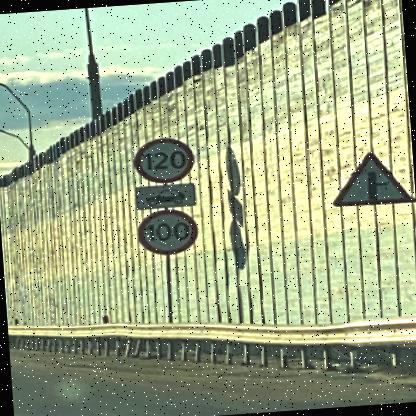speedlimit: (130, 134, 194, 186), (134, 206, 198, 256)
